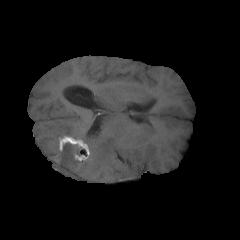glioma: (40, 125, 118, 178)
